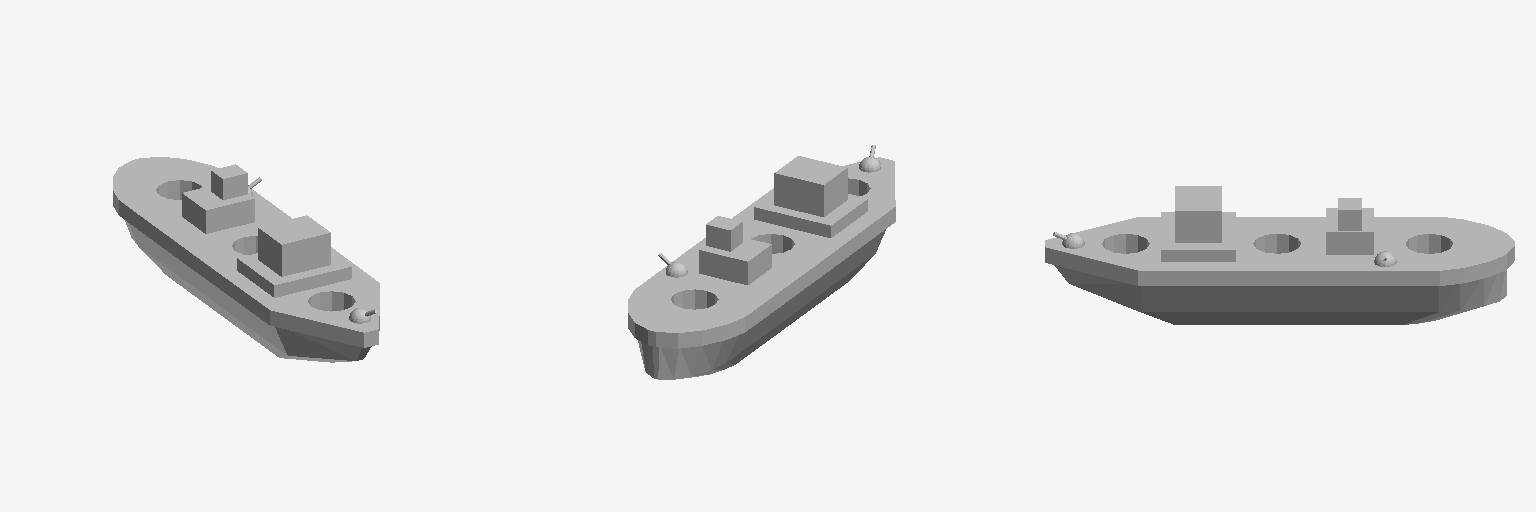
File: Destroyer.obj
The picture shows the model from 3 angles: view 1: azimuth 30°, elevation 25°; view 2: azimuth 150°, elevation 25°; view 3: azimuth 270°, elevation 25°; orthographic projection.
Visible parts, largest first — view 1: pCube34; view 2: pCube34; view 3: pCube34.
Part boxes in pixels (left/top/right/bottom): pCube34: left=113, top=157, right=379, bottom=362; pCube34: left=628, top=145, right=895, bottom=379; pCube34: left=1045, top=186, right=1514, bottom=324.
Size of the model in its own units: 0.8721 by 0.8207 by 3.09.